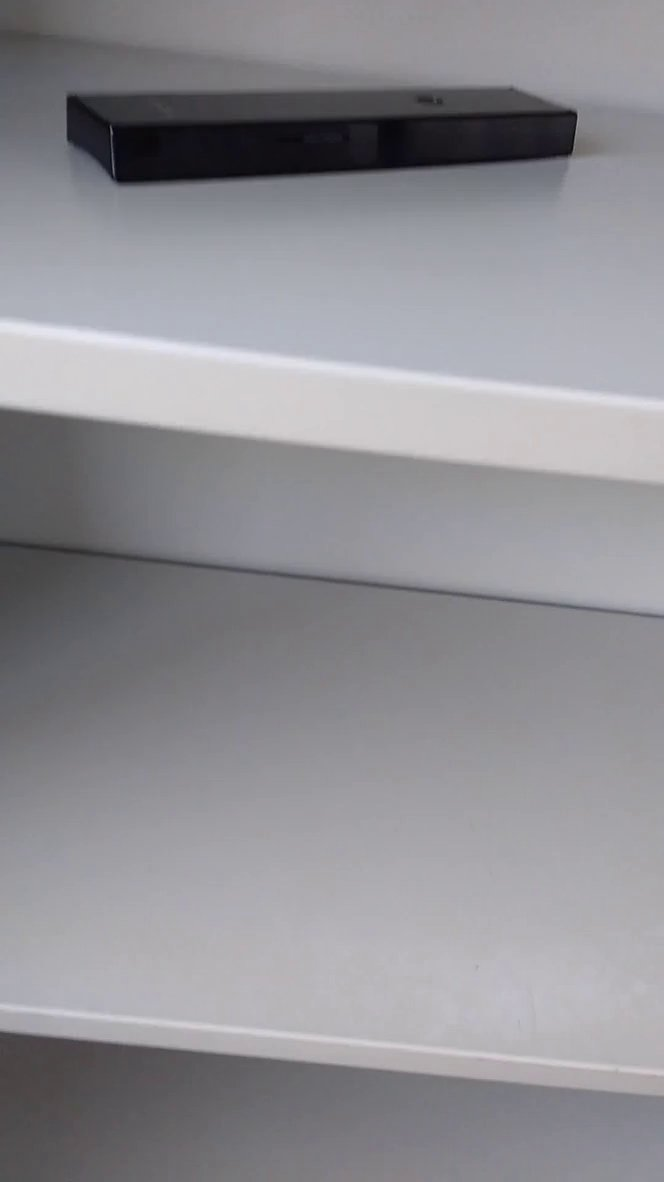remote: (57, 68, 586, 195)
